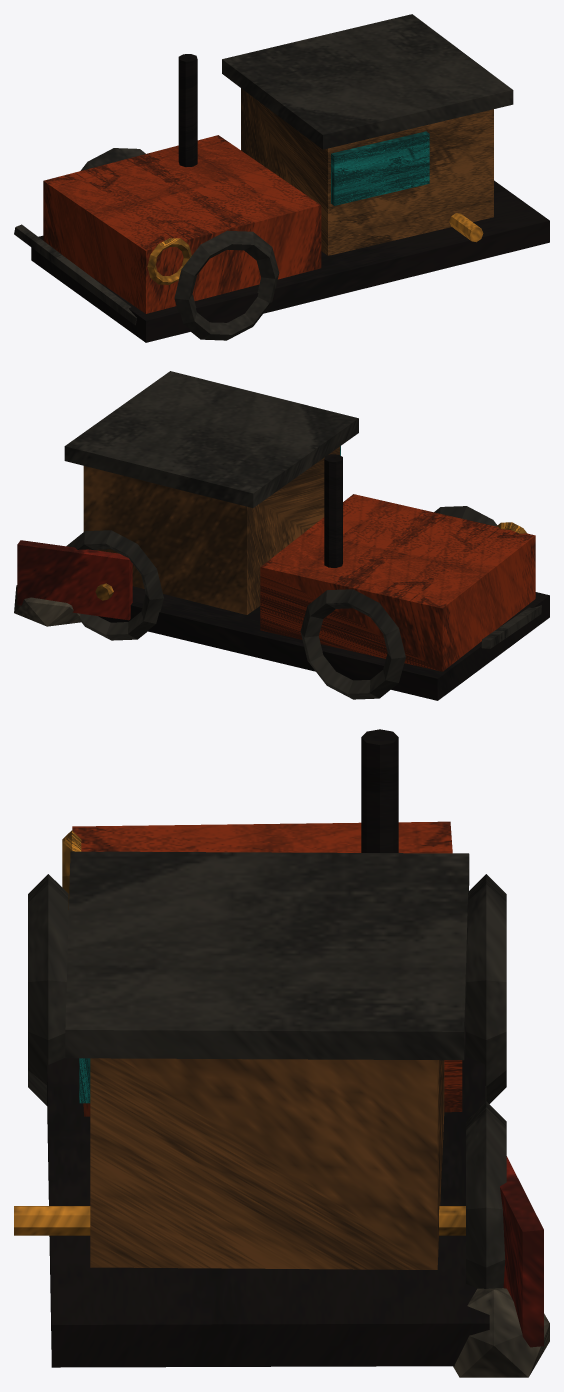
File: flivver-row-west-c.glb
3 renders of one model, top to bottom at view 1: azimuth 30°, elevation 25°; view 2: azimuth 150°, elevation 25°; view 3: azimuth 270°, elevation 25°, orthographic. The views are drawn at different scales.
Visible parts, largest first — view 1: flivver-row-west-c; view 2: flivver-row-west-c; view 3: flivver-row-west-c.
Part boxes in pixels (x1,y1,x2,y2): flivver-row-west-c: [14, 14, 549, 342]; flivver-row-west-c: [14, 371, 549, 700]; flivver-row-west-c: [14, 729, 549, 1377].
Bounding box in the file's own units: 6.45 × 2.85 × 3.43.
Materials: 1 (1 with a texture image).
